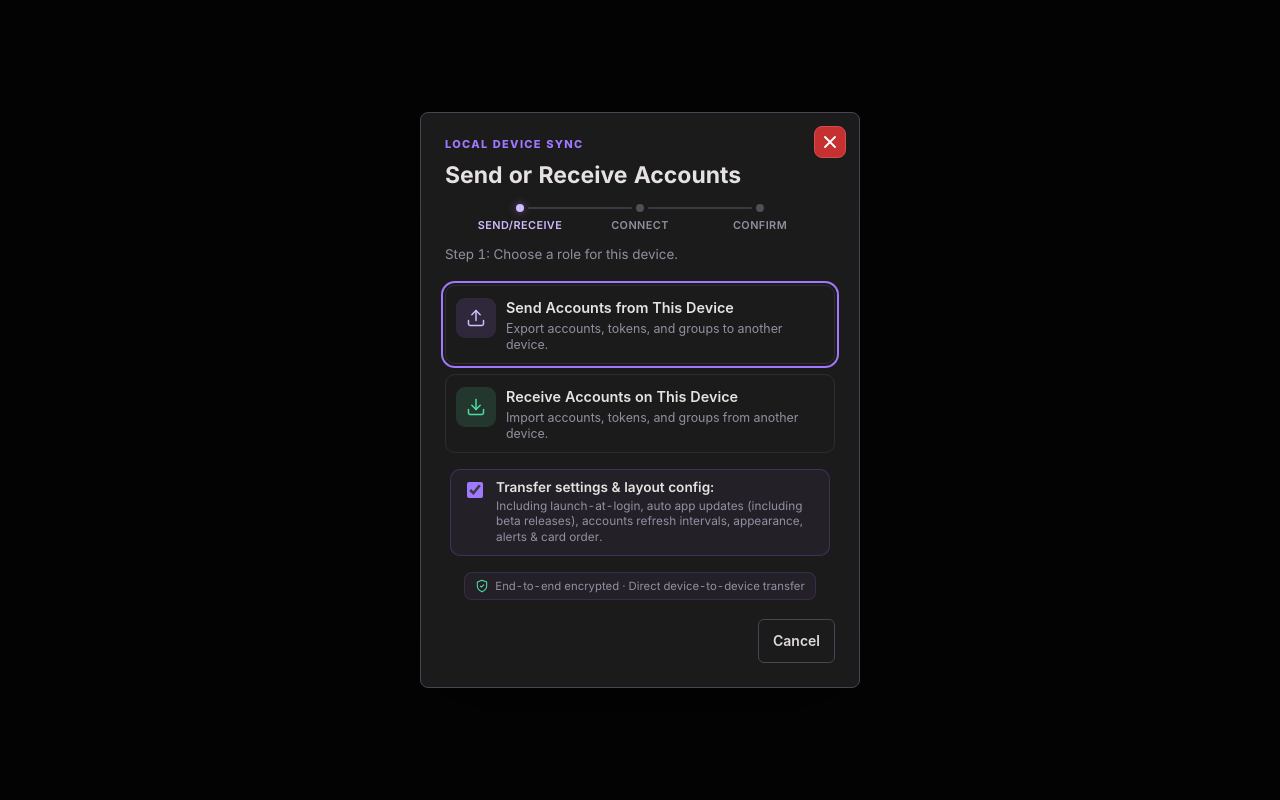
it: mobile Wi-Fi prompt for link codes › asks to turn Wi-Fi on instead of starting a session when it is off
The image size is (1280, 800).
Click the button that starts with "Send Accounts from This Device" at (640, 324), box [445, 285, 835, 364]
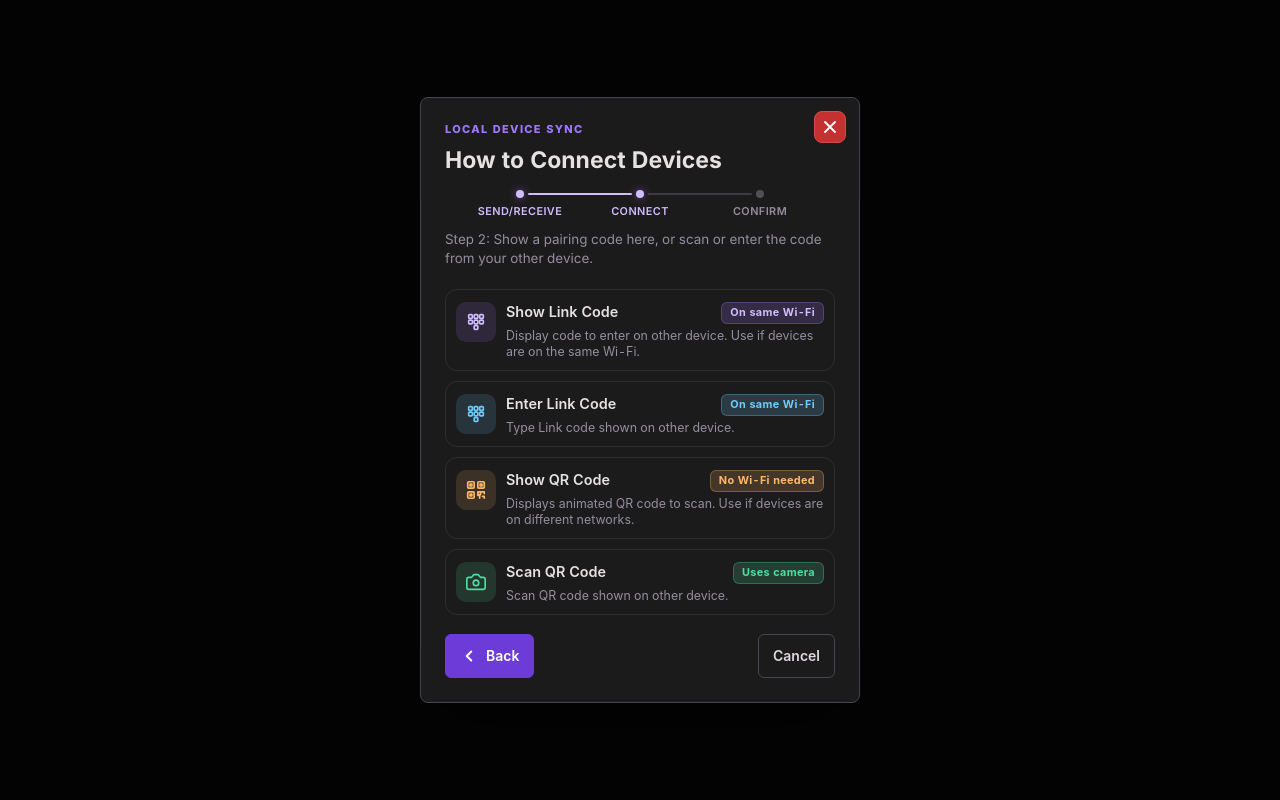
Click the button that starts with "Show Link Code" at (640, 330), box [445, 289, 835, 371]
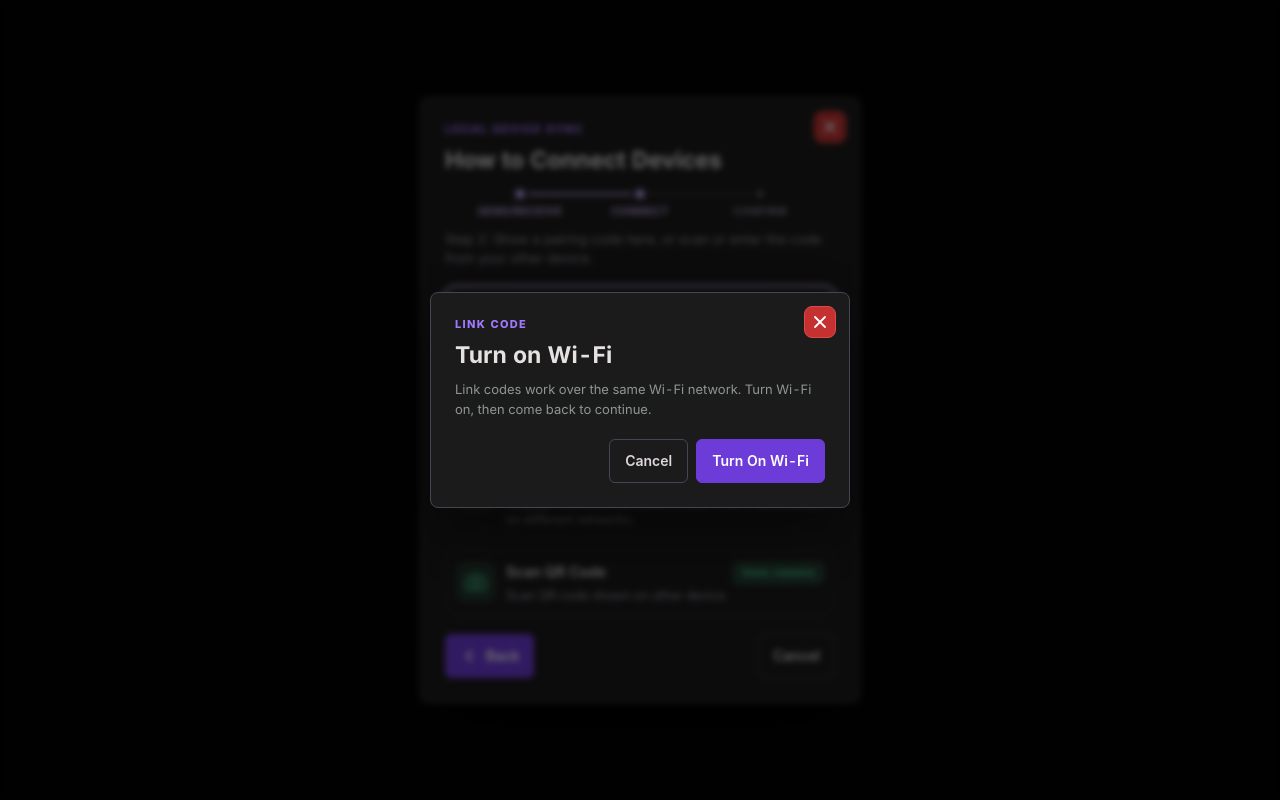
Now the heading "How to Connect Devices" is shown, box [445, 146, 722, 174]
Now the element with class "modal-backdrop" shows "Turn on Wi-Fi", box [455, 341, 612, 369]
